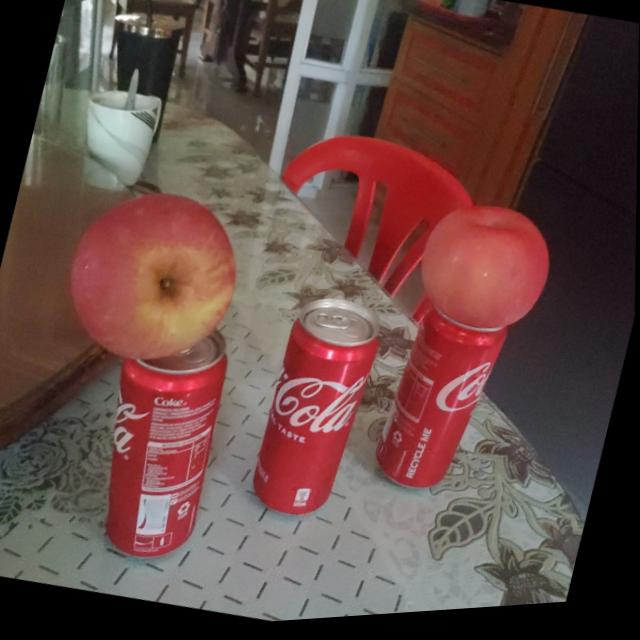apple: (57, 175, 256, 382), (411, 197, 562, 349)
coke: (85, 324, 241, 568), (245, 302, 382, 529), (369, 317, 505, 512)
